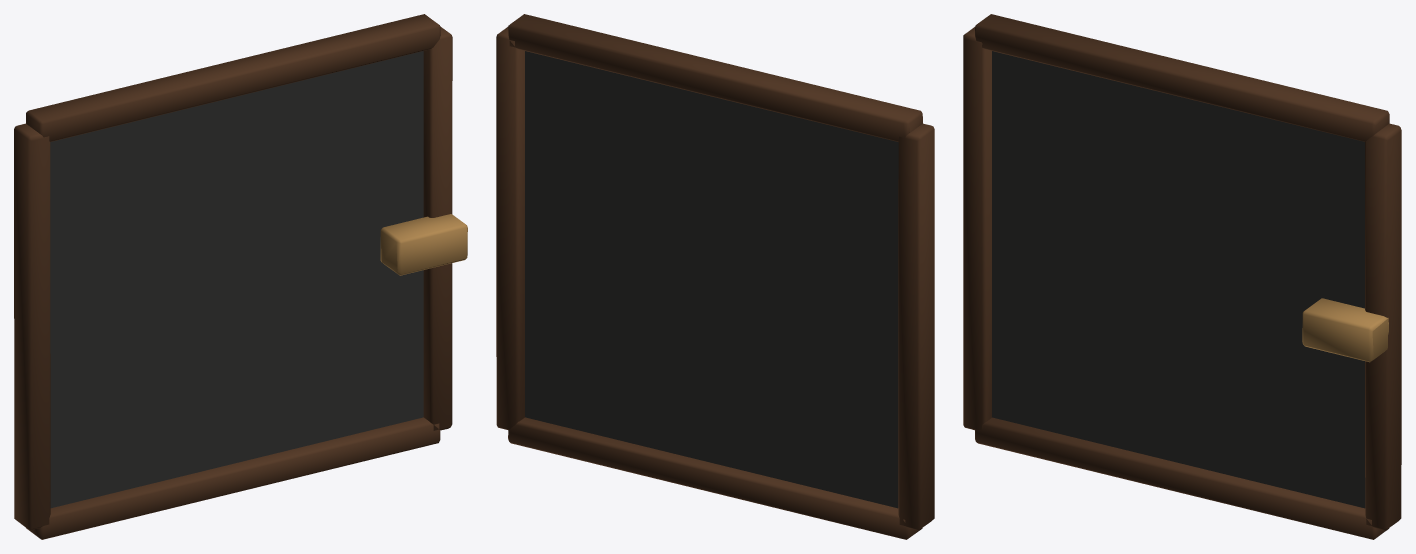
File: cua_chuong_game.glb
3 renders of one model, left to right at view 1: azimuth 30°, elevation 25°; view 2: azimuth 150°, elevation 25°; view 3: azimuth 330°, elevation 25°, orthographic.
Parts seen in each view (by area): view 1: cua_chuong_game; view 2: cua_chuong_game; view 3: cua_chuong_game.
Boxes of the visible parts, x1,y1,x2,y2 form: cua_chuong_game: [14, 14, 467, 539]; cua_chuong_game: [496, 14, 934, 539]; cua_chuong_game: [963, 14, 1401, 539].
Bounding box in the file's own units: 0.3594 × 0.3393 × 0.0469.
